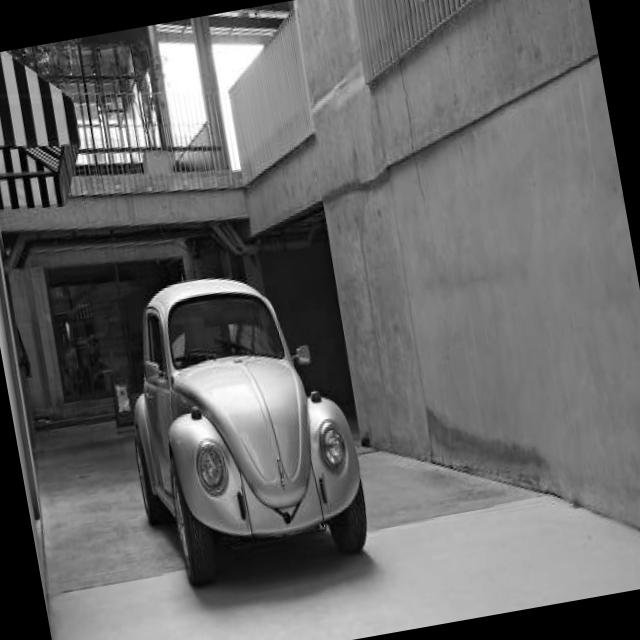car: (105, 258, 377, 601)
